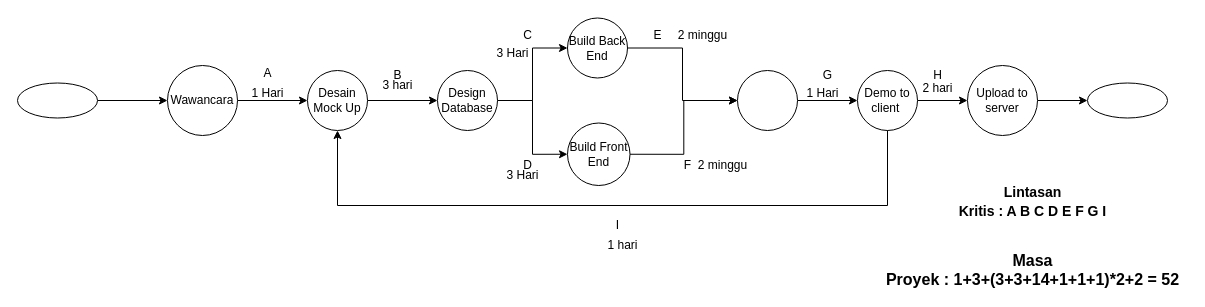
This 1205x307 diagram has some shape labels left out. The shapes that lost their labels are listed below. From the top down, each one's box as (x1, y1, x2, y2) in pixels, then its label:
(16, 82, 98, 118): Start
(736, 70, 798, 130): Compile
(1086, 82, 1168, 118): Finish
